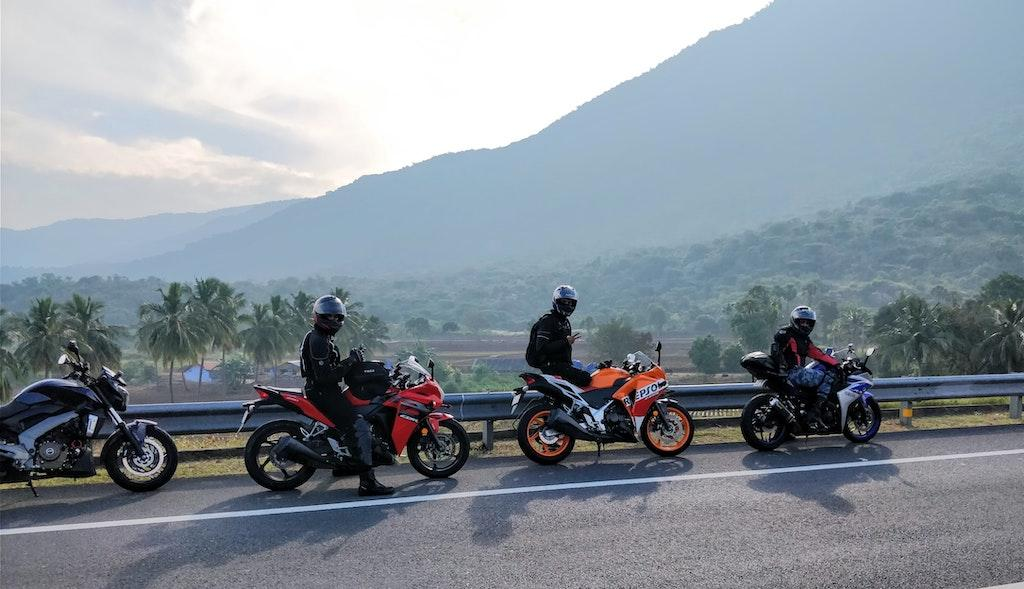helmet: (312, 294, 346, 337), (790, 305, 817, 338), (552, 284, 578, 317)
